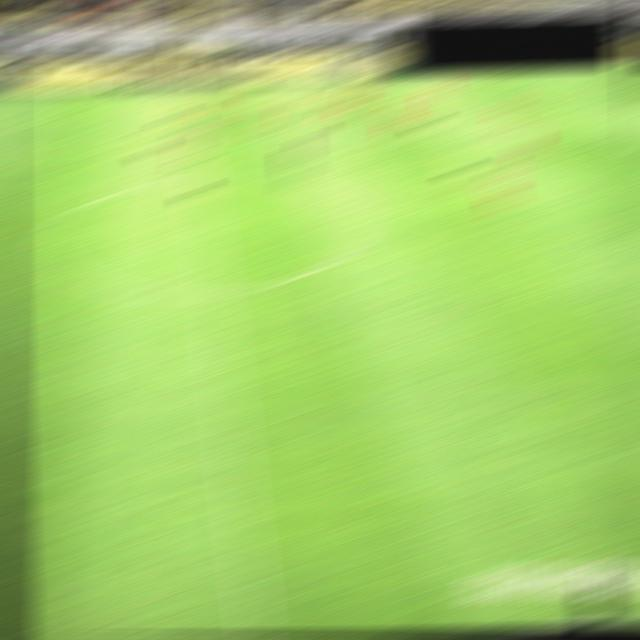bigarea_top_outter: (508, 70, 536, 77)
halfcircle_bottom: (200, 288, 229, 298)
halfcircle_top: (184, 176, 211, 182)
midline_top_intersection: (175, 88, 202, 95)
